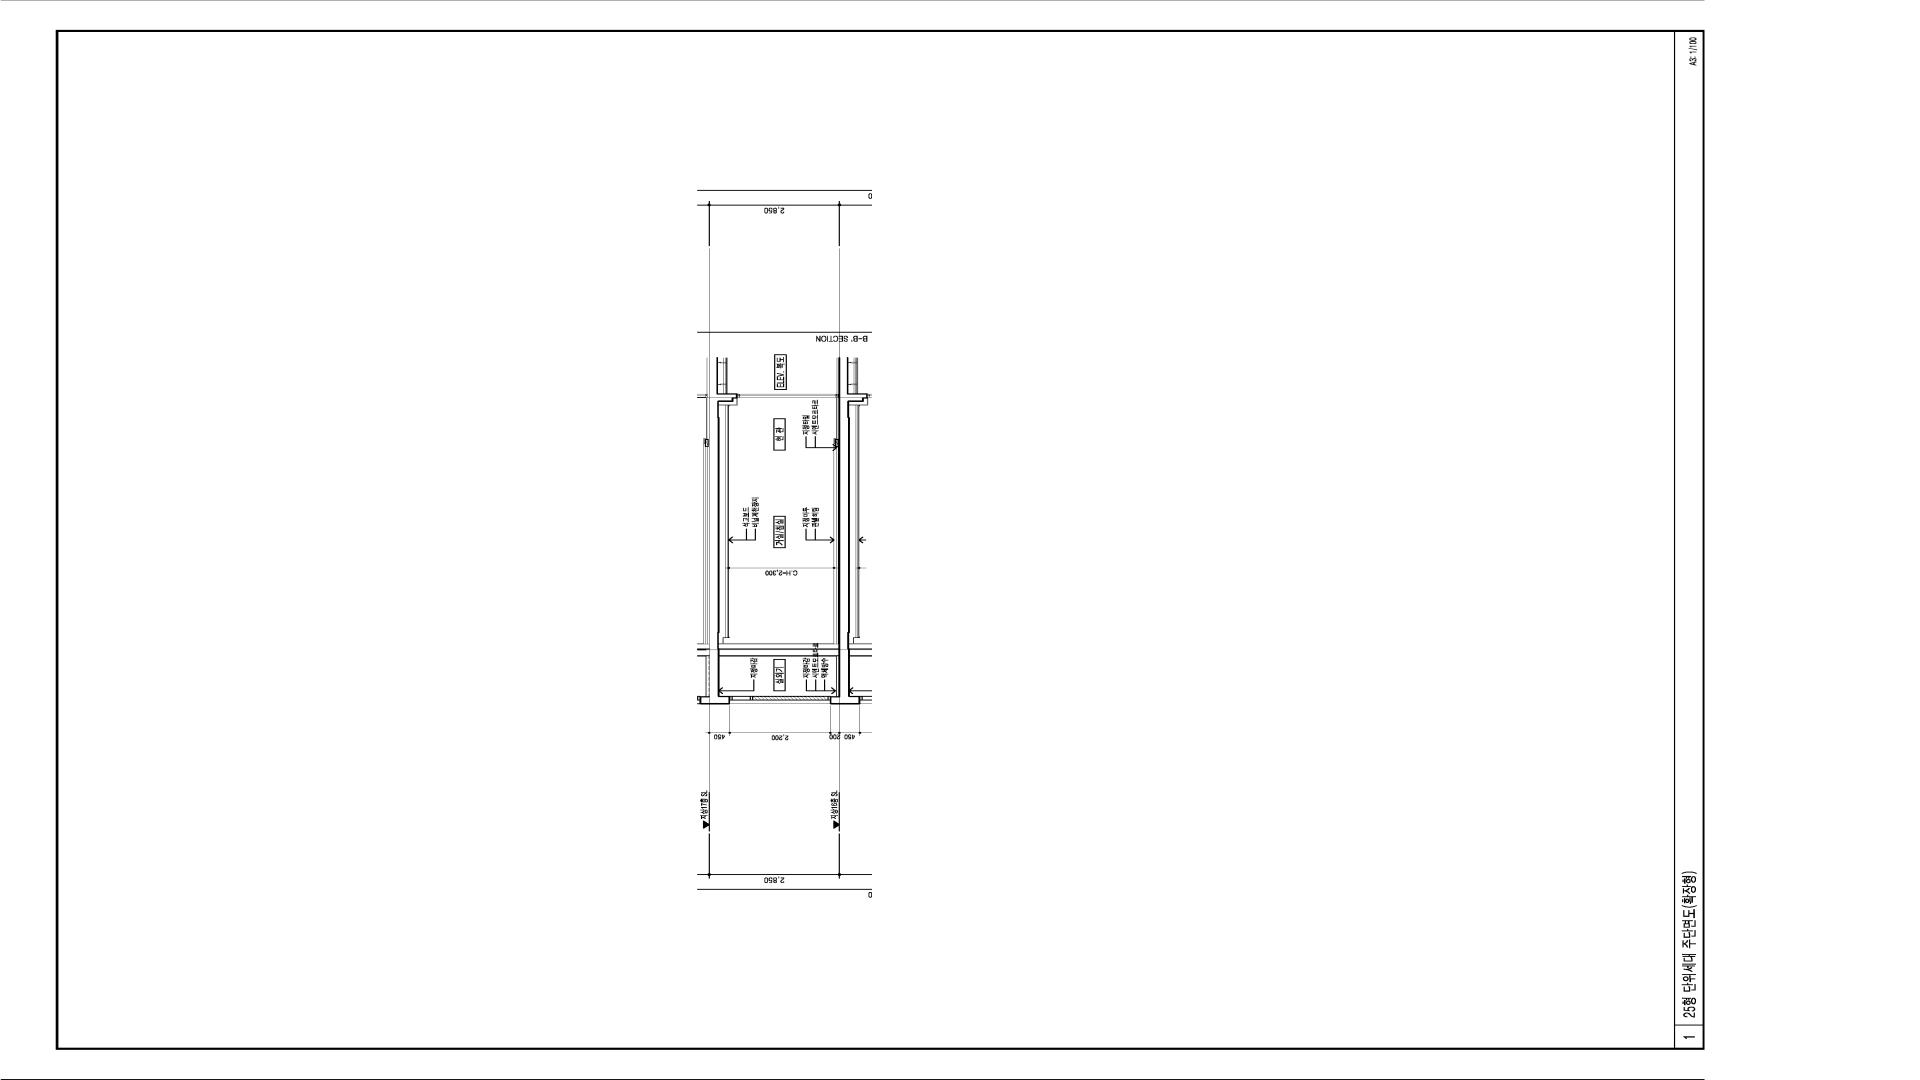door: (738, 394, 839, 398)
wall: (707, 357, 738, 704), (829, 357, 851, 704), (720, 649, 839, 657), (731, 696, 829, 704)
